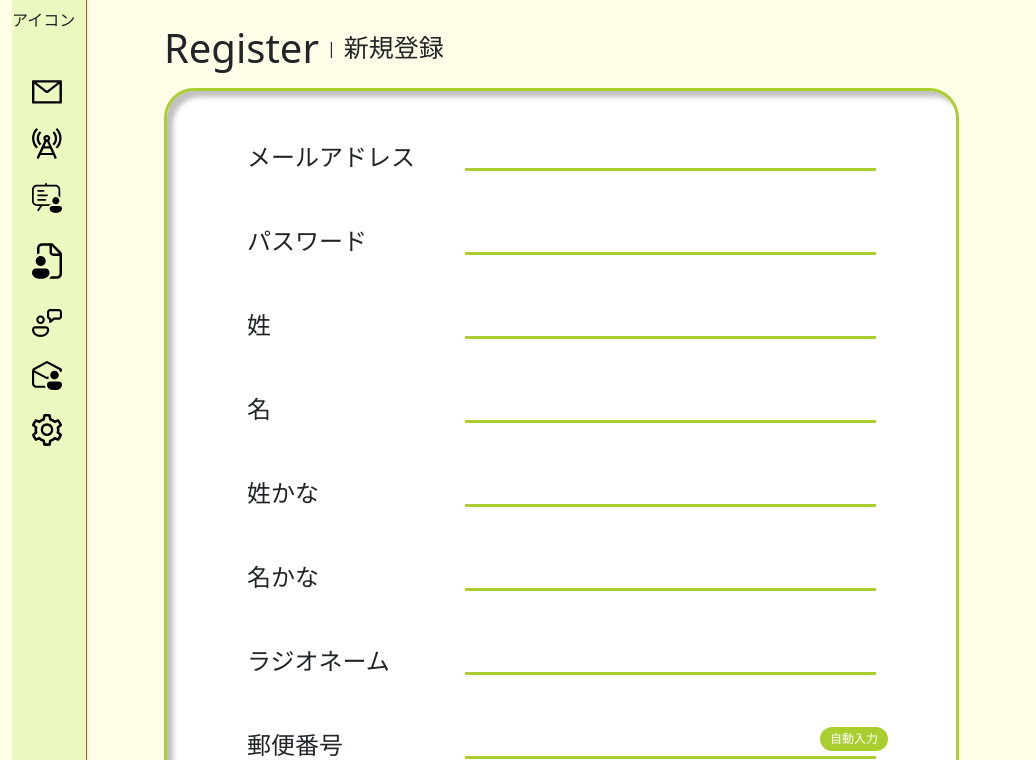
Test: 新規登録 › パスワードを入れないとバリデーションメッセージが表示される
This screenshot has width=1036, height=760.
Type "test@example.com" into the field with test id "register-input-email". click: (670, 157)
box: [465, 143, 876, 171]
(page scrolled)
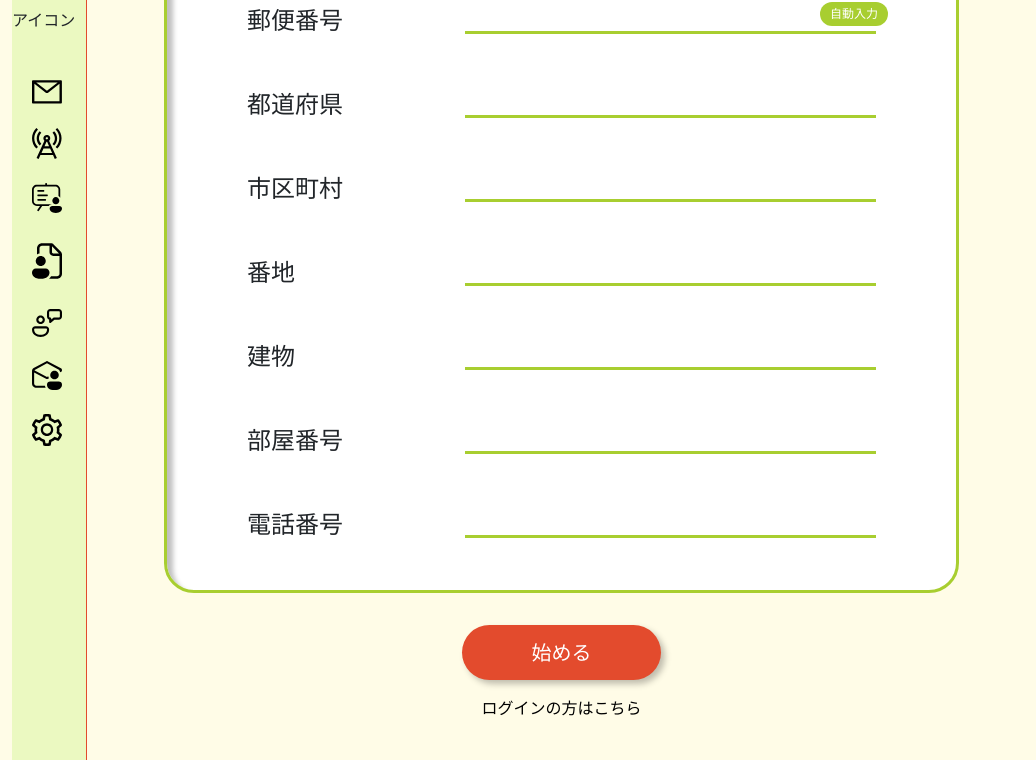
Click the button with test id "register-button". click: (562, 652)
box: [462, 625, 661, 680]
(page scrolled)
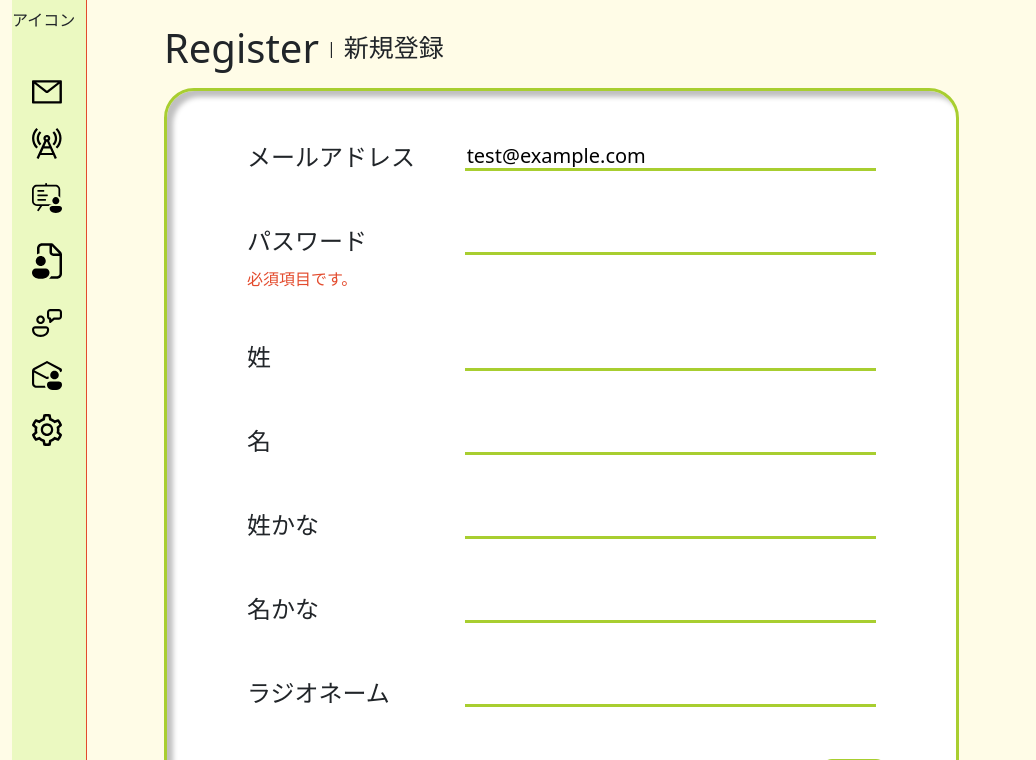
Expected: the text "必須項目です。" is shown, [247, 268, 357, 290]
